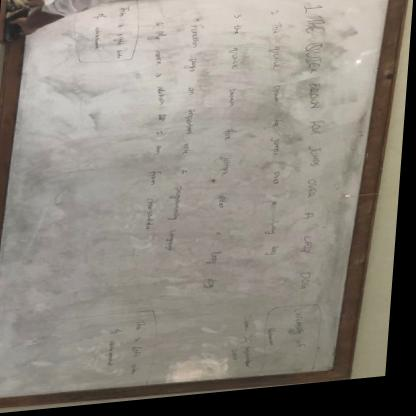Handwritten text: (287, 14, 343, 308), (200, 24, 252, 304), (251, 22, 301, 272), (164, 24, 210, 263), (133, 31, 175, 246), (129, 319, 156, 383), (289, 310, 320, 363), (101, 324, 130, 380), (108, 4, 135, 63), (86, 11, 107, 55), (266, 329, 287, 361)
Whiteboard: (0, 0, 401, 400)
